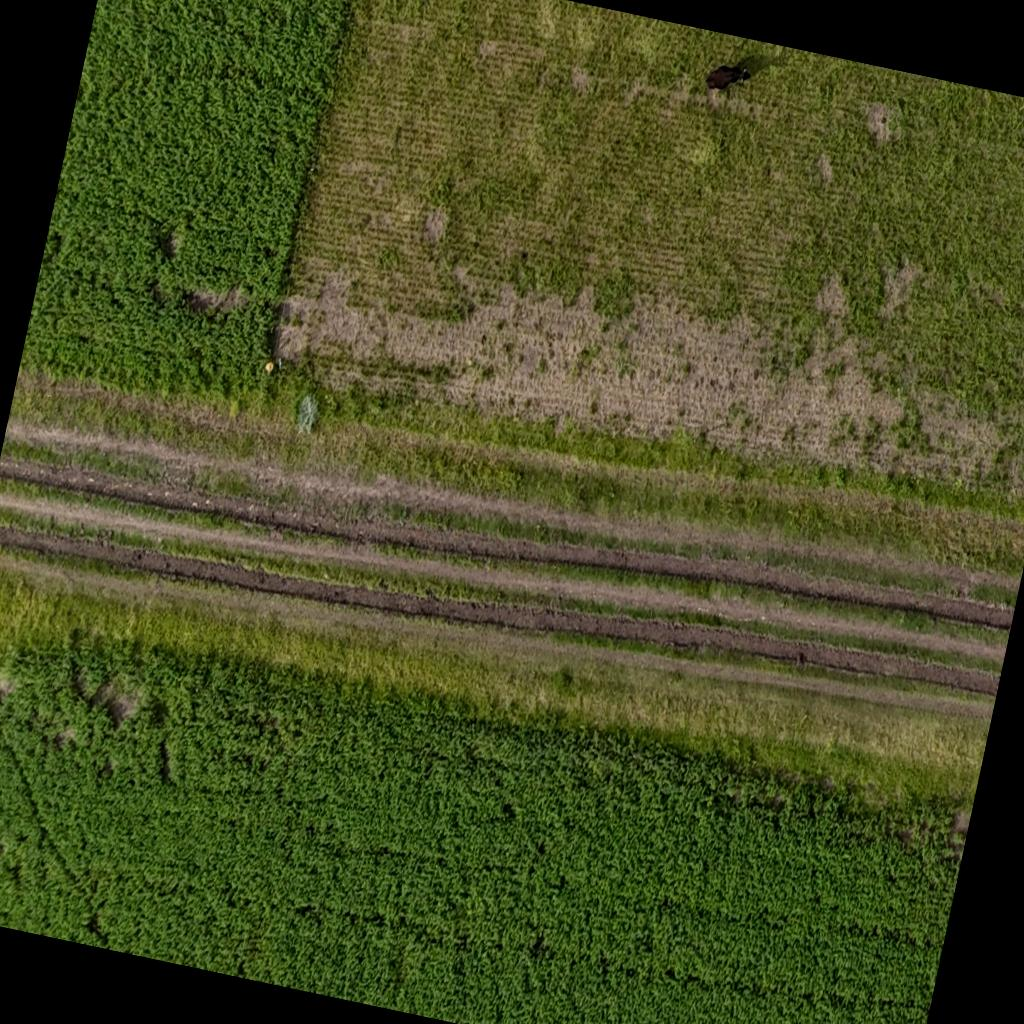cow: (700, 49, 761, 106)
